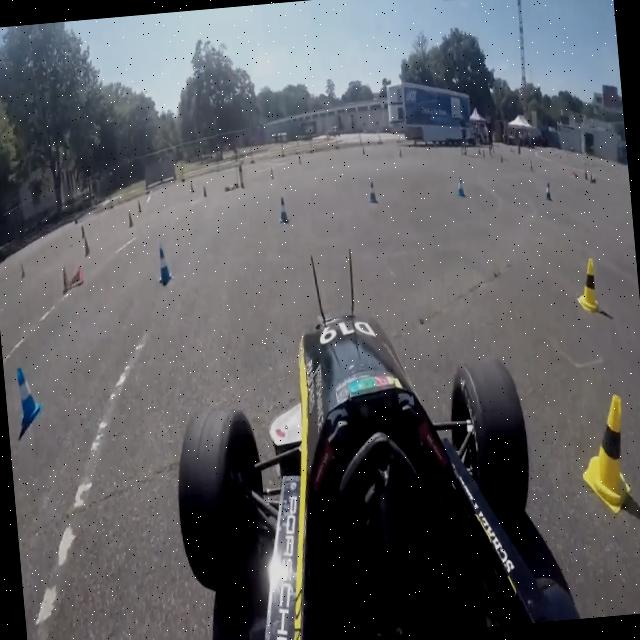blue_cone: (12, 363, 45, 430), (154, 242, 174, 286), (275, 194, 290, 226), (366, 179, 378, 204), (454, 174, 464, 198), (543, 179, 552, 201)
yellow_cone: (574, 390, 632, 516), (572, 253, 602, 316)
